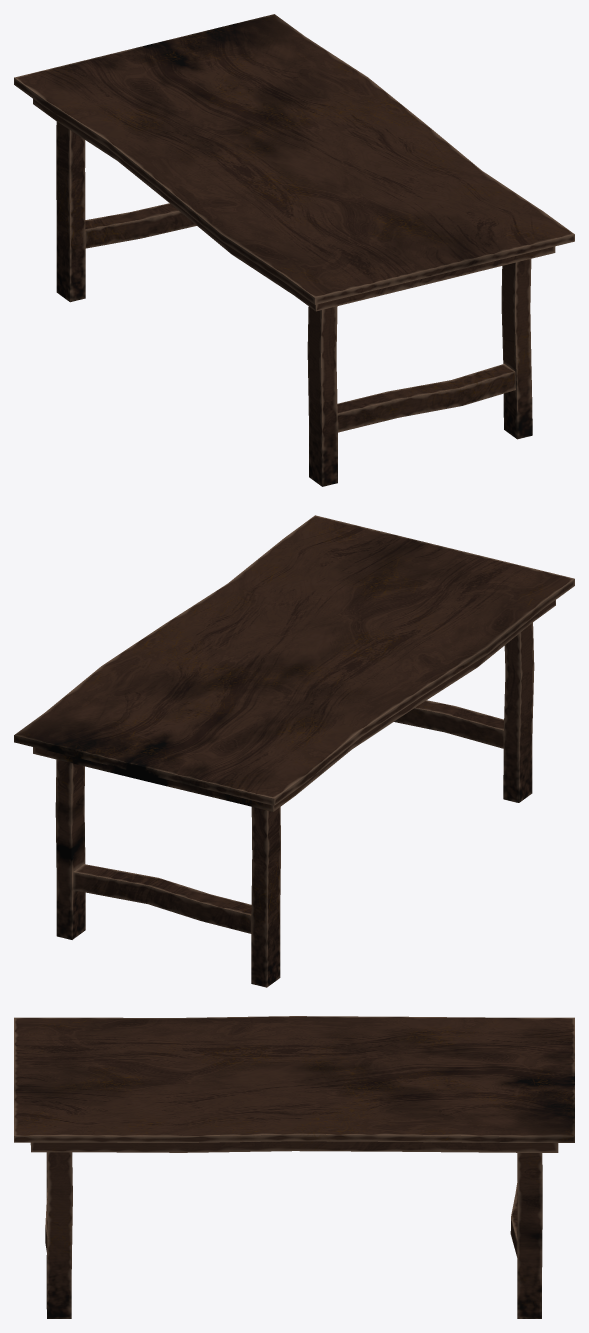
The picture shows the model from 3 angles, top to bottom: view 1: azimuth 30°, elevation 25°; view 2: azimuth 150°, elevation 25°; view 3: azimuth 270°, elevation 25°; orthographic projection. The views are drawn at different scales.
Parts seen in each view (by area): view 1: Table_baked; view 2: Table_baked; view 3: Table_baked.
Part boxes in pixels (<box>): Table_baked: <box>14,14,574,486</box>; Table_baked: <box>14,515,574,987</box>; Table_baked: <box>14,1016,574,1318</box>.
Size of the model in its own units: 2.05 by 1.54 by 4.
Materials: 1 (1 with a texture image).
